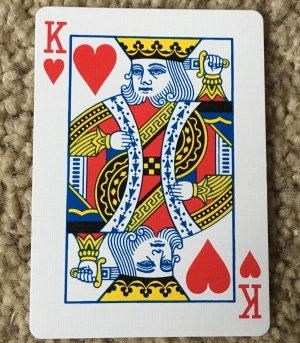card: (30, 5, 270, 338)
